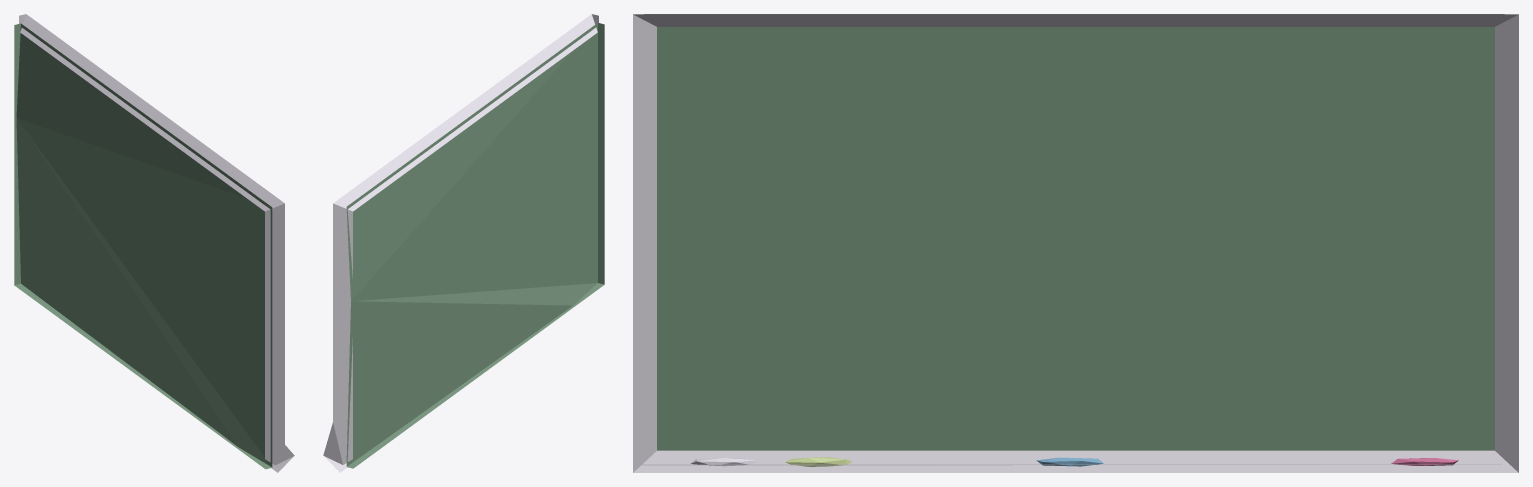
The model's file is Blackboard.glb.
3 views of the same model, side by side, from view 1: azimuth 30°, elevation 25°; view 2: azimuth 150°, elevation 25°; view 3: azimuth 270°, elevation 25° (orthographic). The views are drawn at different scales.
Visible parts, largest first — view 1: Cube, Cube.001; view 2: Cube, Cube.001; view 3: Cube, Cube.001.
Part boxes in pixels (x1,y1,x2,y2): Cube: (14, 23, 272, 469); Cube.001: (19, 14, 294, 472); Cube: (346, 23, 604, 468); Cube.001: (323, 14, 598, 472); Cube: (644, 14, 1504, 450); Cube.001: (633, 14, 1518, 472).
Size of the model in its own units: 0.2266 by 2.23 by 3.9.
